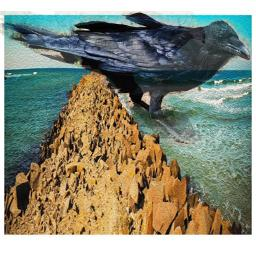Crow: (0, 11, 252, 146)
